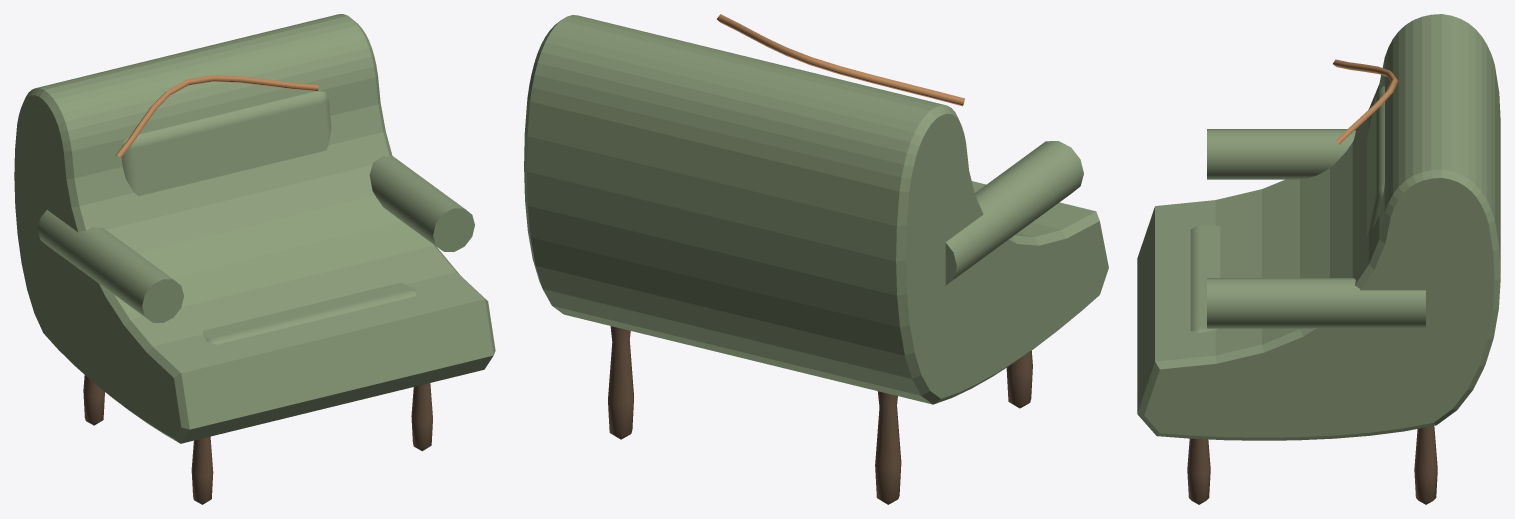
Rendered from loungedesignchair.glb.
3 renders of one model, left to right at view 1: azimuth 30°, elevation 25°; view 2: azimuth 150°, elevation 25°; view 3: azimuth 270°, elevation 25°, orthographic. The views are drawn at different scales.
Parts seen in each view (by area): view 1: atelier-warm-loungedesignchair; view 2: atelier-warm-loungedesignchair; view 3: atelier-warm-loungedesignchair.
Part boxes in pixels (left/top/right/bottom): atelier-warm-loungedesignchair: left=14, top=14, right=495, bottom=504; atelier-warm-loungedesignchair: left=524, top=14, right=1108, bottom=504; atelier-warm-loungedesignchair: left=1137, top=14, right=1500, bottom=504.
Size of the model in its own units: 1.02 by 1 by 0.9228.
